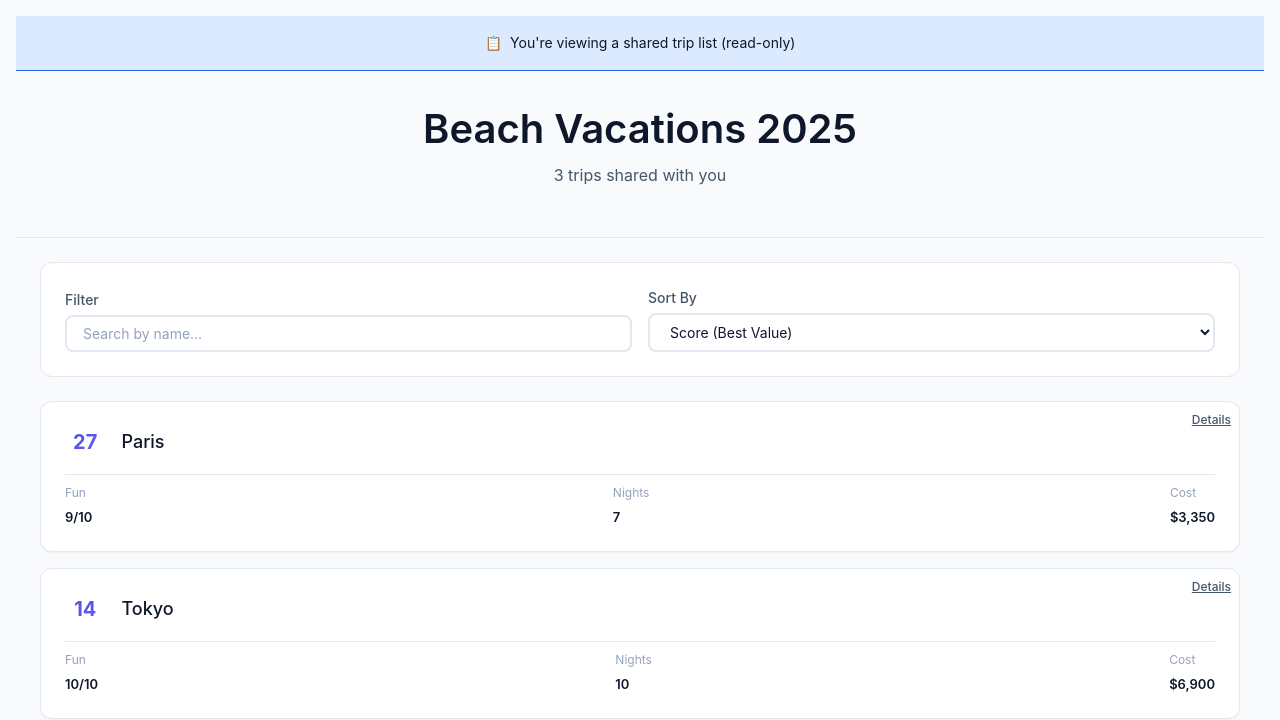
shared trips › filters shared trips by search keyword
Expected: the link "Paris" is shown, [122,431,164,452]
Expected: the link "Tokyo" is shown, [122,598,174,619]
Type "Tokyo" into the field labelled "Filter" at (349, 334), box [65,315,632,352]
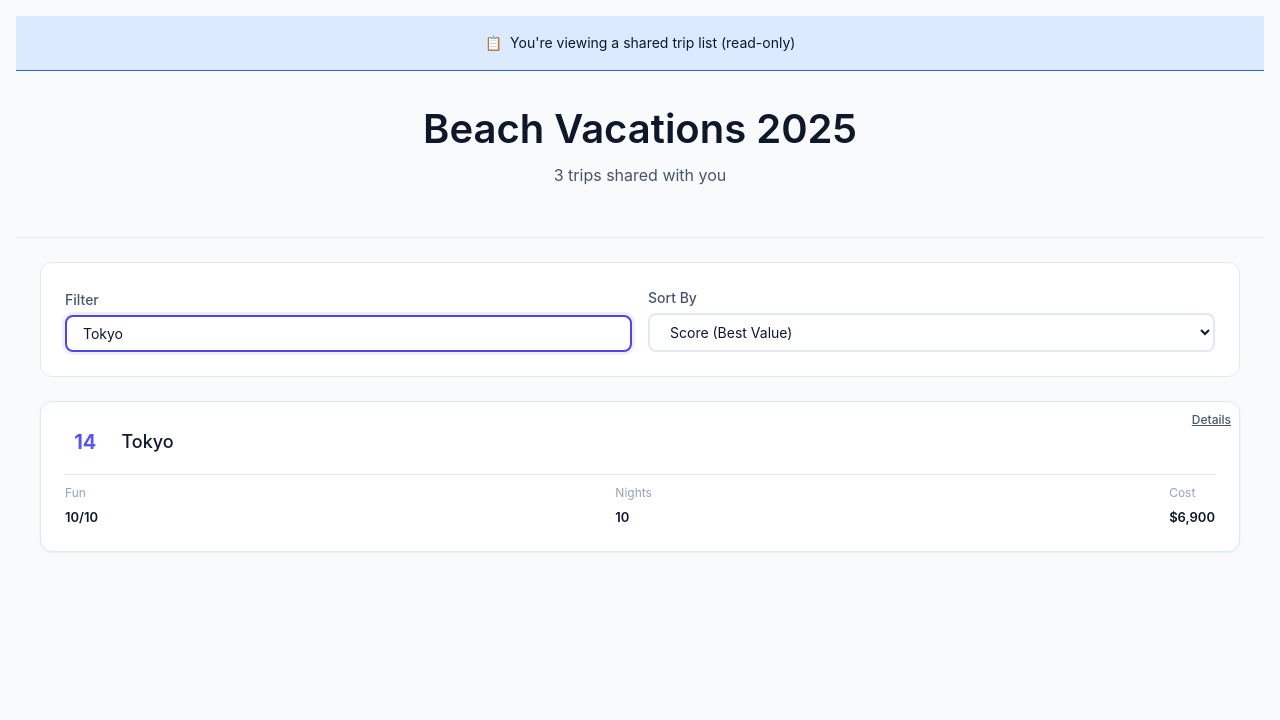
Expected: the link "Tokyo" is shown, [122,431,174,452]
Expected: the link "Paris" is gone
Clear the field labelled "Filter" at (349, 334), box [65,315,632,352]
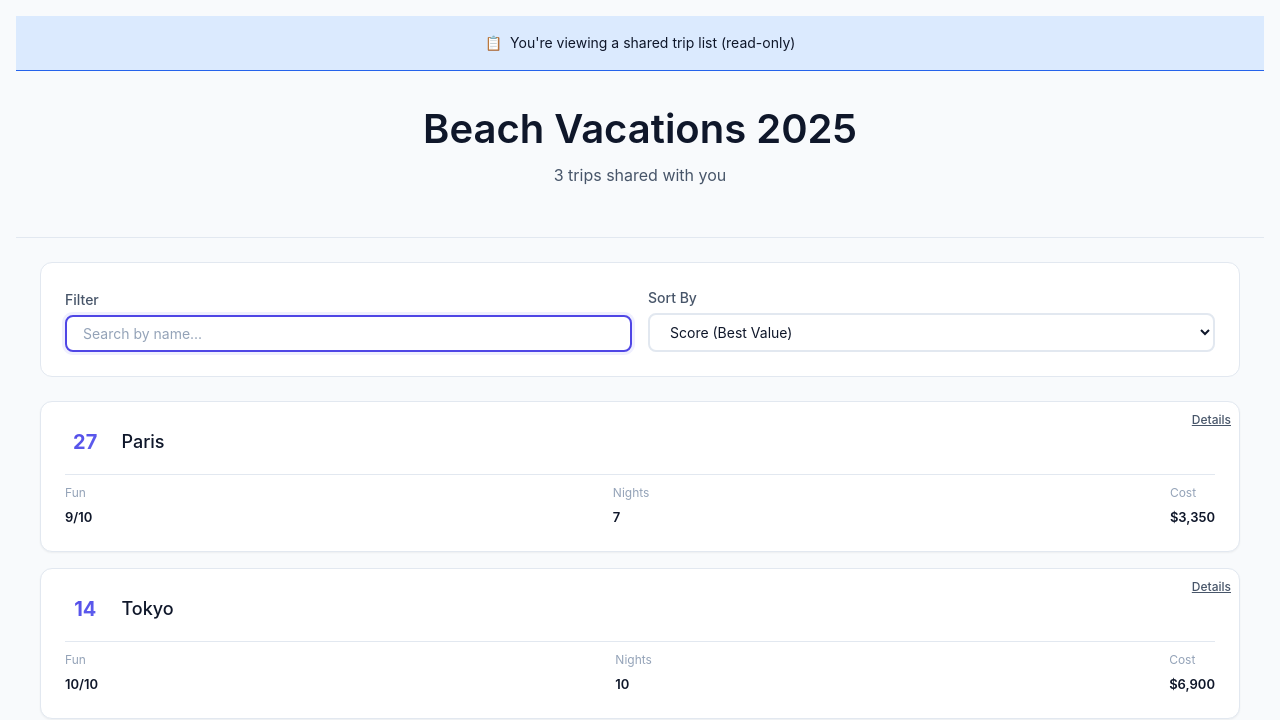
Expected: the link "Tokyo" is shown, [122,598,174,619]
Expected: the link "Paris" is shown, [122,431,164,452]
Type "Antarctica" into the field labelled "Filter" at (349, 334), box [65,315,632,352]
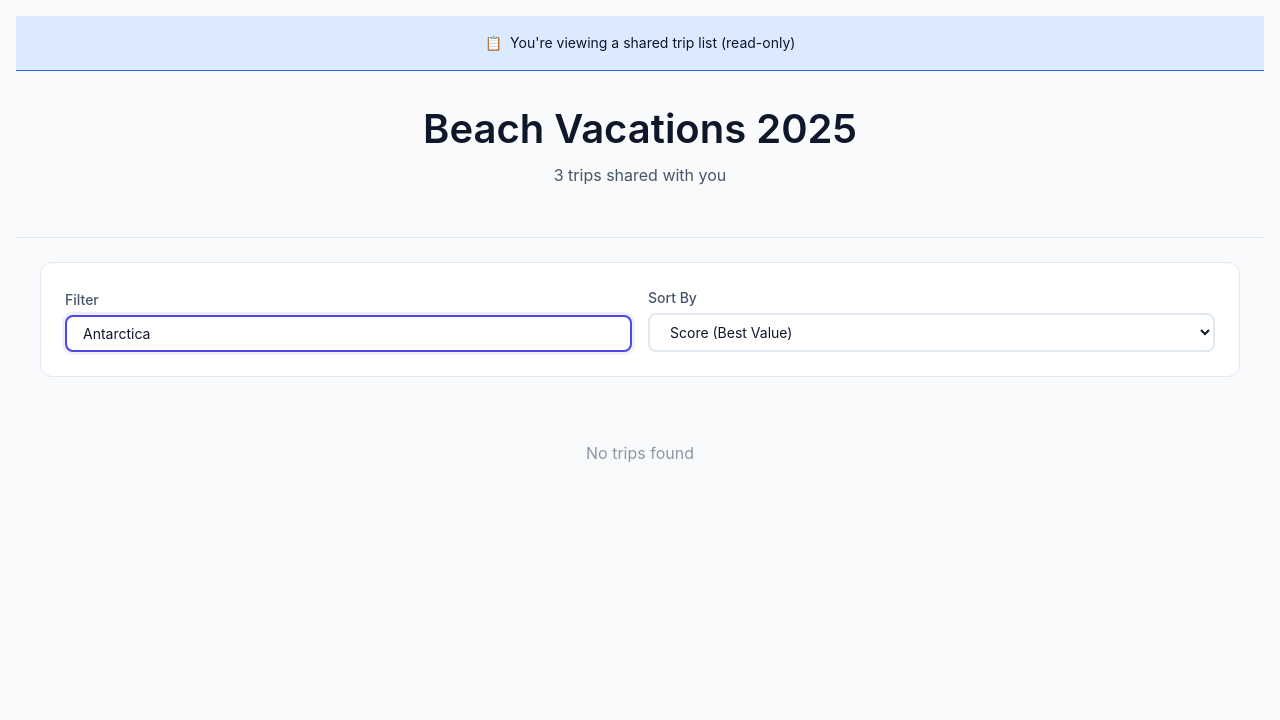
Expected: the text "No trips found" is shown, [586,443,694,463]
Expected: the link "Paris" is gone
